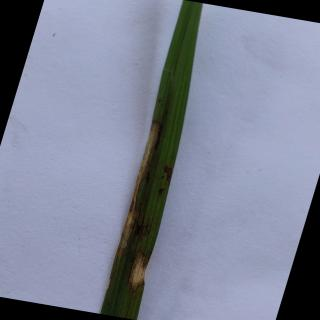Hawar-Daun: (111, 122, 161, 278), (130, 255, 149, 292)
